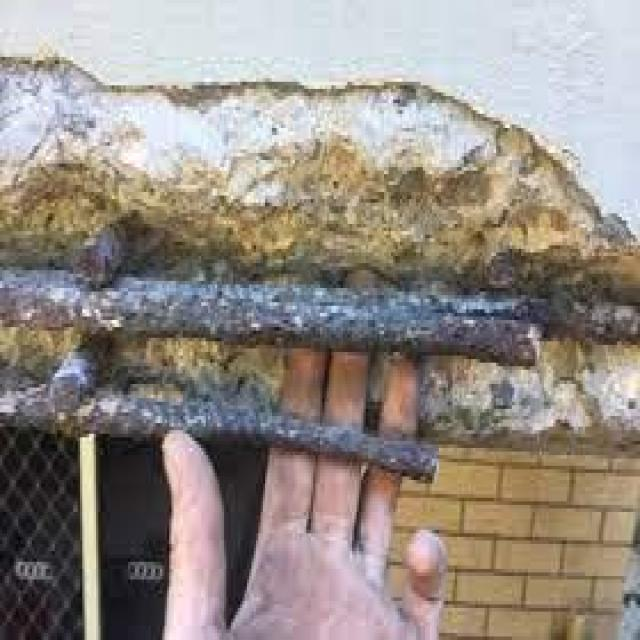non-corrosion: (0, 213, 640, 491)
